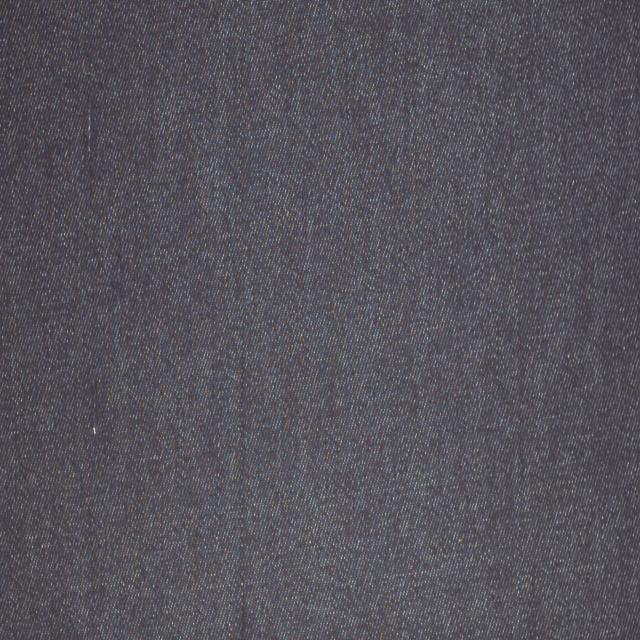Knot: (85, 96, 92, 164), (90, 381, 98, 436)
